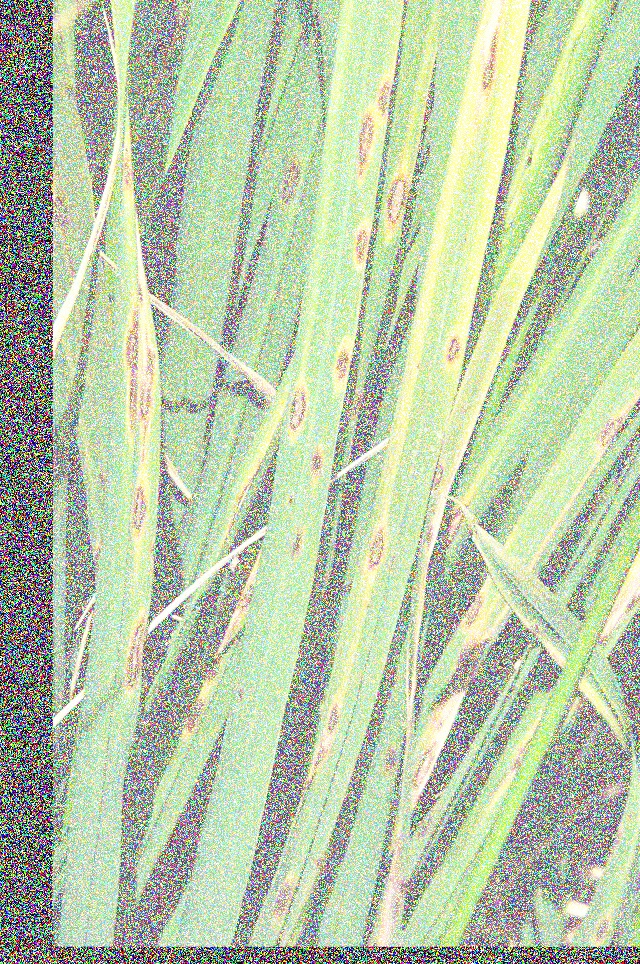Bacterial_Leaf_Blight: (119, 317, 163, 428), (112, 602, 153, 706), (271, 372, 314, 443), (471, 15, 504, 106), (119, 478, 158, 540), (348, 102, 377, 182), (375, 171, 415, 227), (269, 866, 306, 924), (595, 404, 633, 456), (361, 516, 394, 575), (365, 62, 399, 119), (329, 329, 356, 400), (603, 812, 634, 865), (176, 693, 218, 732), (278, 144, 304, 206), (110, 136, 137, 194), (348, 212, 374, 271), (376, 737, 410, 777), (54, 189, 80, 241), (413, 736, 439, 785), (585, 907, 624, 939), (441, 321, 466, 369), (318, 693, 349, 731), (459, 593, 488, 627), (282, 526, 308, 559), (58, 76, 83, 104), (229, 681, 246, 708)
